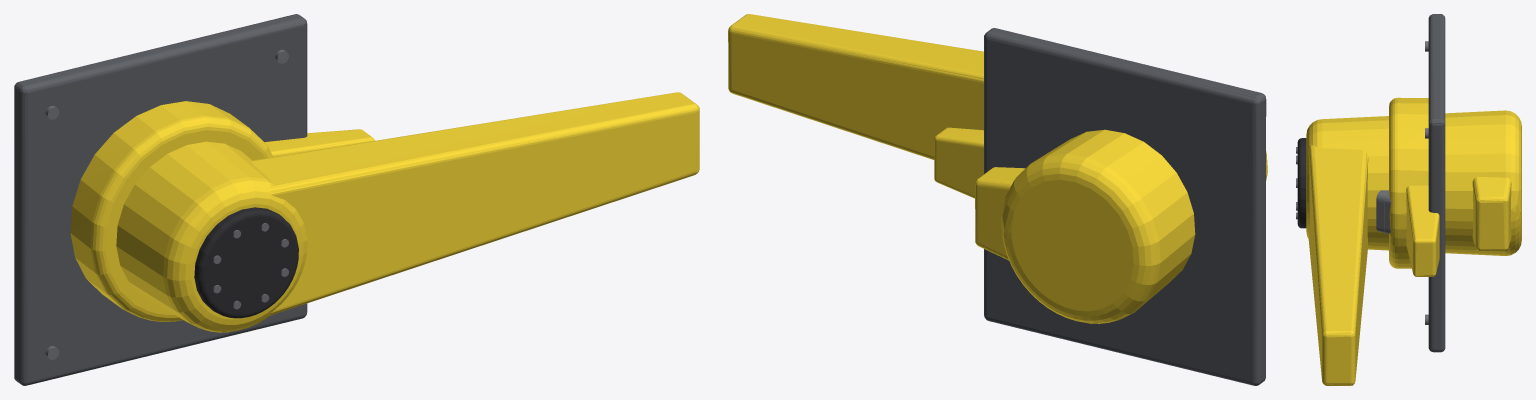
Rendered from arm.glb.
The picture shows the model from 3 angles, left to right: view 1: azimuth 30°, elevation 25°; view 2: azimuth 150°, elevation 25°; view 3: azimuth 270°, elevation 25°; orthographic projection. The views are drawn at different scales.
Parts seen in each view (by area): view 1: b3, b1, b5; view 2: b1, b3, b5, b4; view 3: b3, b1, b4, b5, b10.
Part boxes in pixels (x1,y1,x2,y2): b3: [116, 92, 699, 332]; b1: [14, 14, 307, 385]; b5: [264, 129, 374, 156]; b1: [984, 28, 1266, 385]; b3: [728, 14, 1267, 323]; b5: [934, 127, 983, 198]; b4: [975, 167, 1025, 260]; b3: [1296, 110, 1521, 385]; b1: [1389, 14, 1445, 352]; b4: [1472, 177, 1511, 251]; b5: [1406, 185, 1439, 276]; b10: [1376, 190, 1391, 233].
Size of the model in its own units: 0.5247 by 0.2464 by 0.2165.
